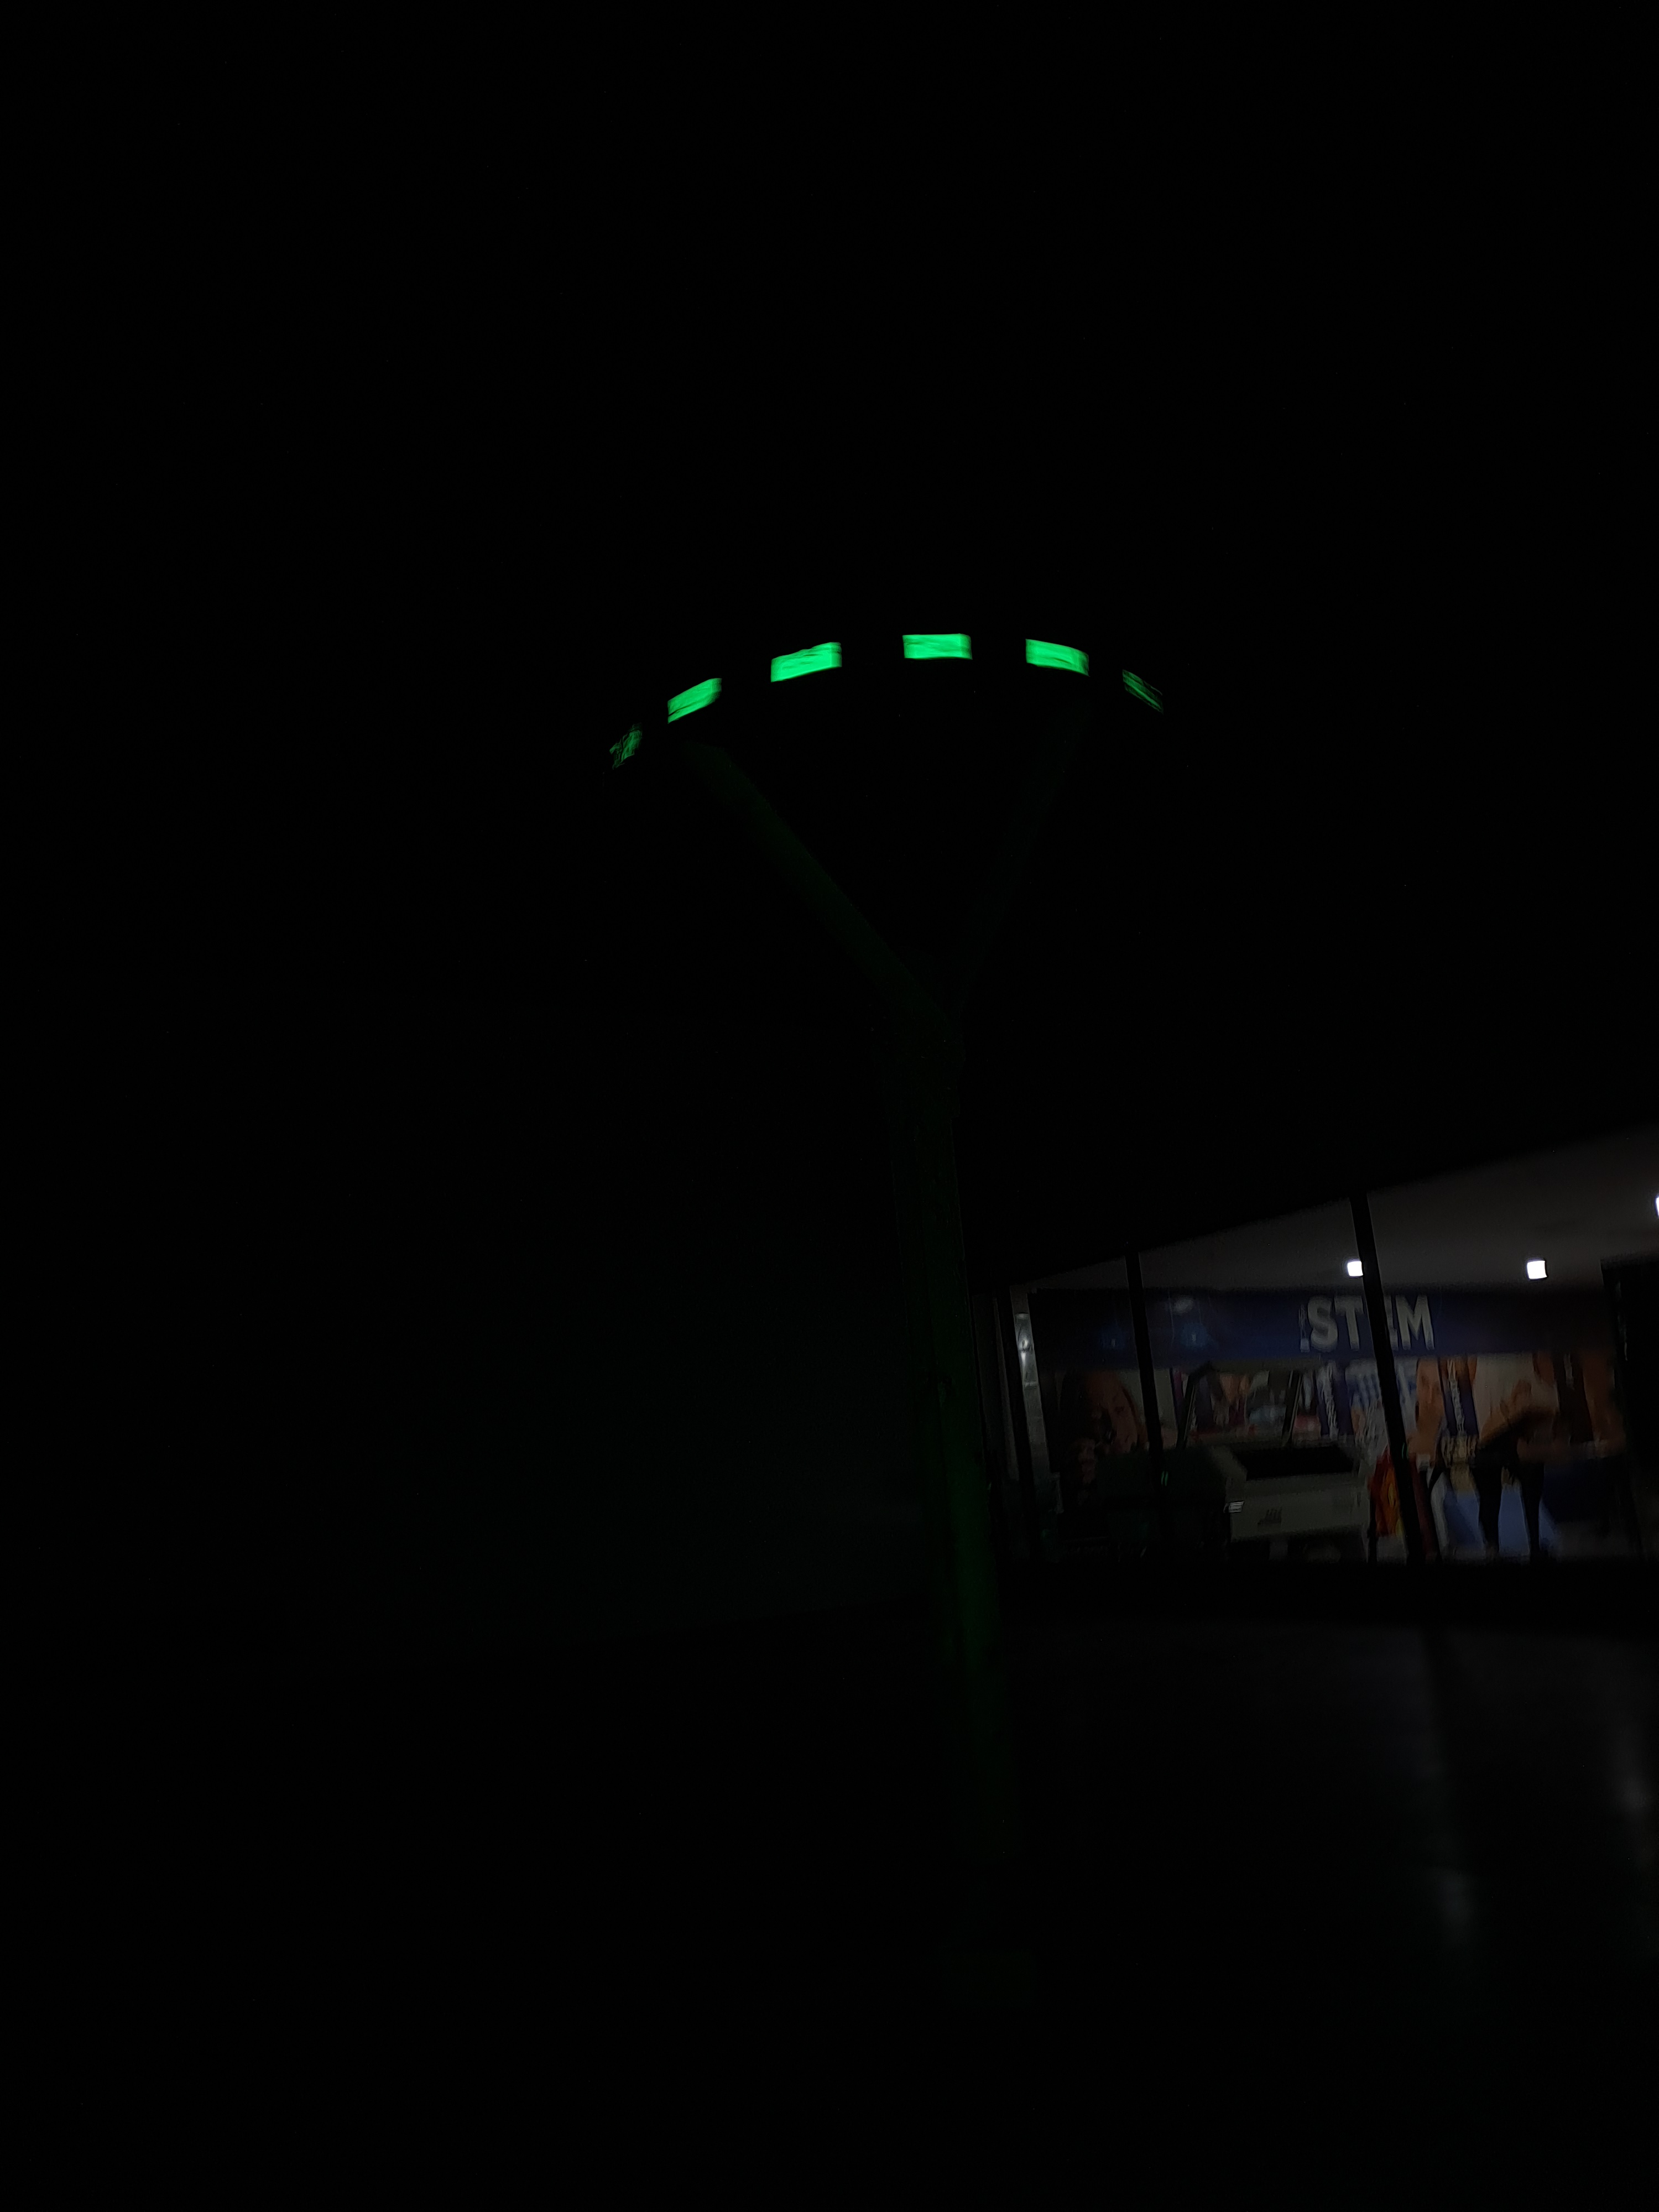hoop: (605, 632, 1169, 768)
